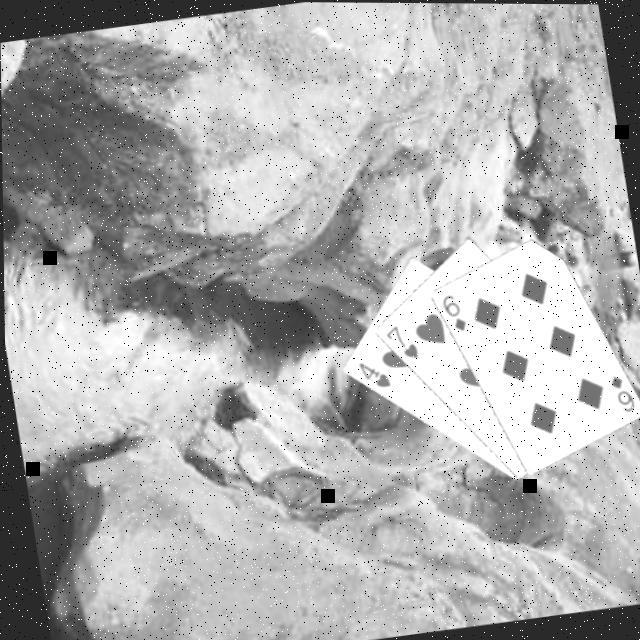4H: (354, 352, 394, 391)
6D: (438, 287, 470, 333), (606, 367, 638, 413)
7H: (380, 317, 422, 363)
